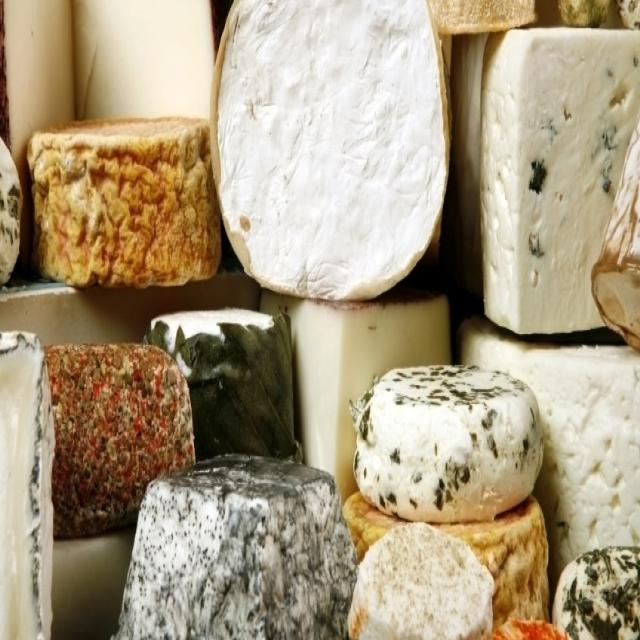Cheese: (206, 6, 461, 294), (116, 441, 378, 640), (491, 2, 639, 346), (11, 108, 223, 297), (351, 357, 543, 519), (34, 324, 180, 523)
